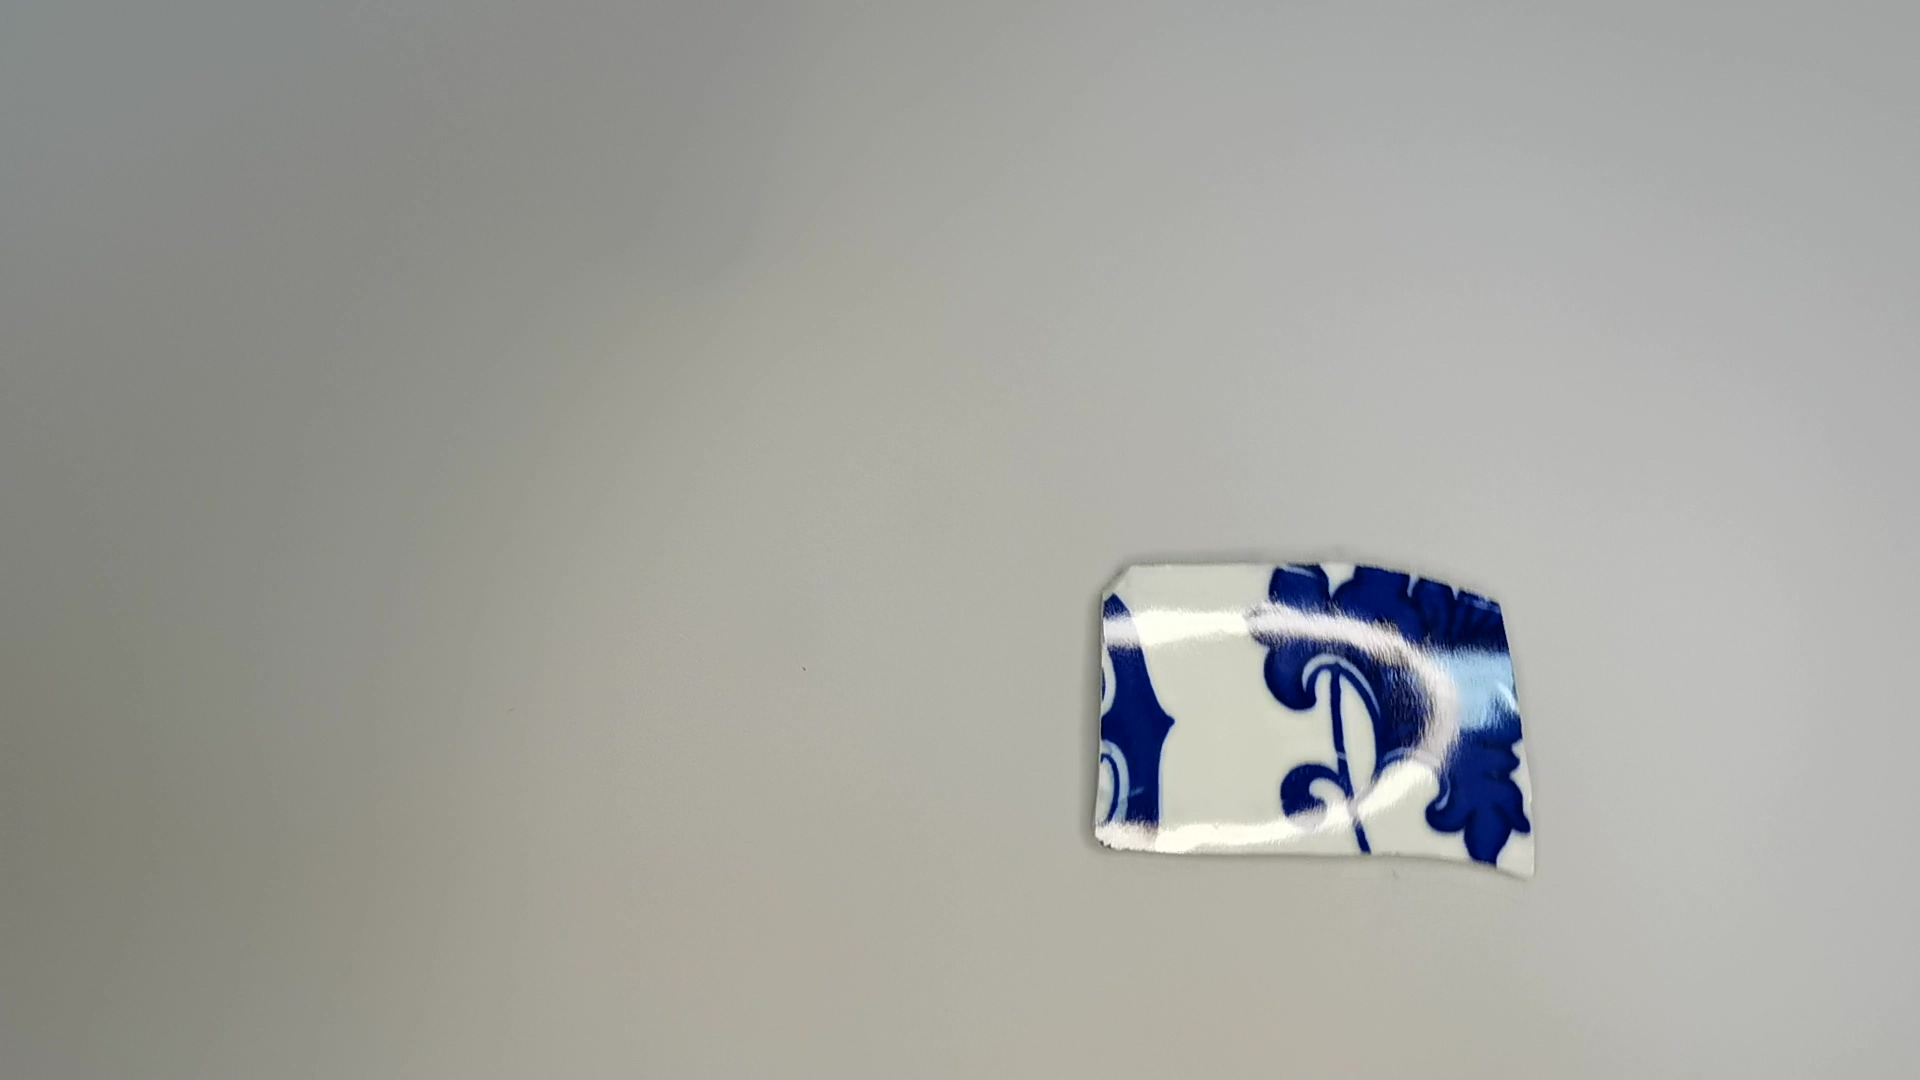ceramic: (1085, 553, 1545, 890)
